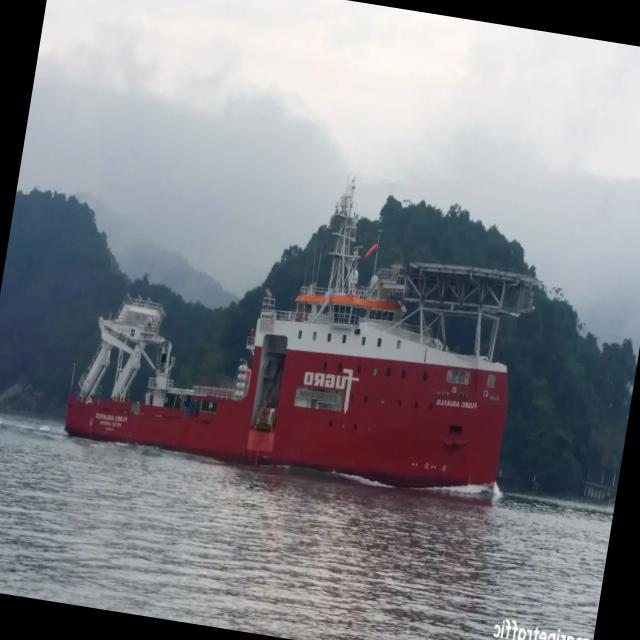Offshore: (65, 184, 538, 487)
